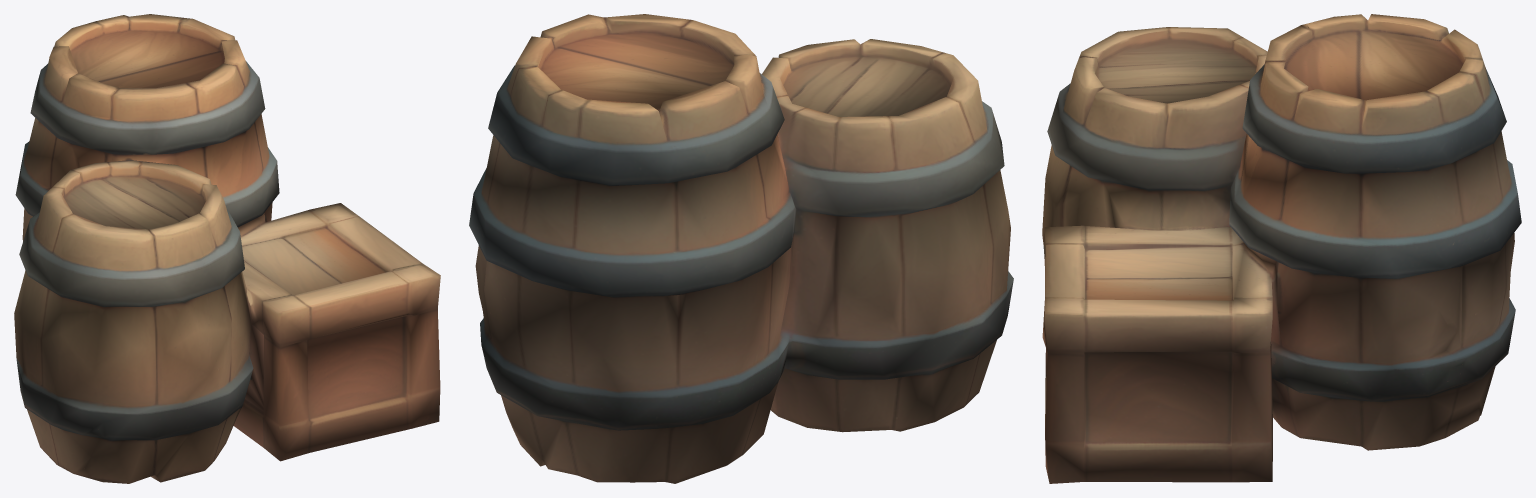
File: barrels.glb
3 views of the same model, side by side, from view 1: azimuth 30°, elevation 25°; view 2: azimuth 150°, elevation 25°; view 3: azimuth 270°, elevation 25° (orthographic). The views are drawn at different scales.
Parts seen in each view (by area): view 1: geometry_0.001; view 2: geometry_0.001; view 3: geometry_0.001.
Part boxes in pixels (x1,y1,x2,y2): geometry_0.001: (14, 14, 440, 483); geometry_0.001: (469, 14, 1013, 483); geometry_0.001: (1042, 14, 1521, 483).
Size of the model in its own units: 1.93 by 1.59 by 2.
1 material, 1 textured.
